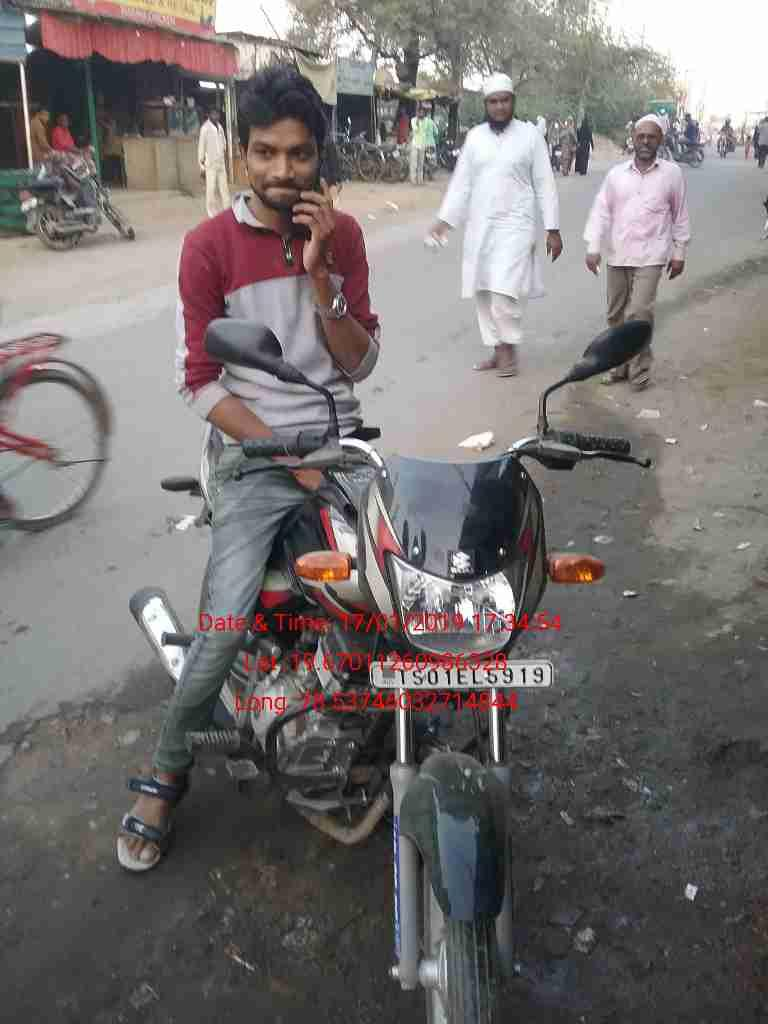plate: (365, 658, 550, 694)
